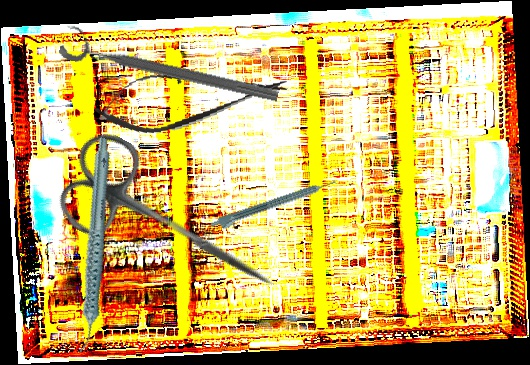Fixation Ring: (57, 22, 284, 108)
Handpiece: (32, 136, 153, 355), (208, 177, 340, 235)
Iris Scissors: (46, 123, 299, 326)
Micro Scissor: (90, 54, 292, 142)
